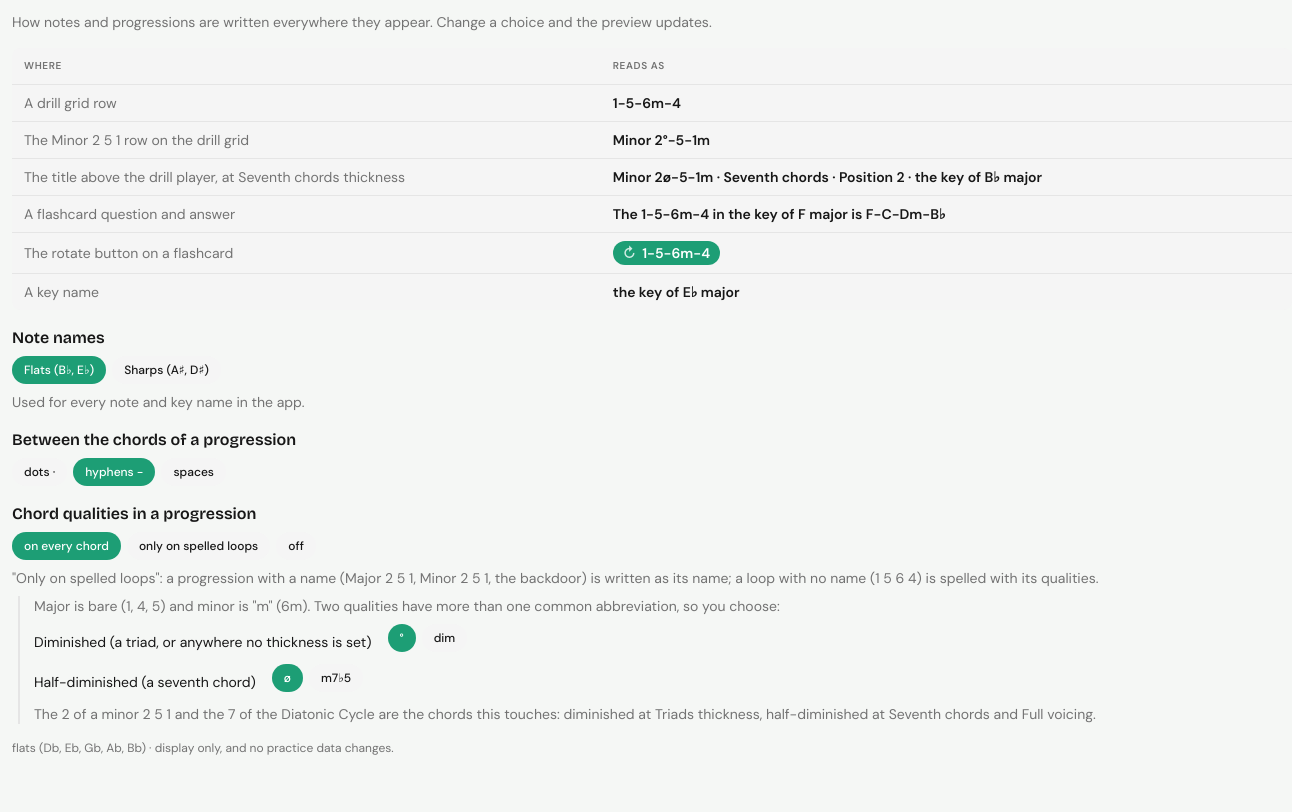
Test case: every control moves the preview › follows the separator
The image size is (1292, 812).
Step 1. Click the button "dots ·" → (40, 472), box [12,458,67,486]
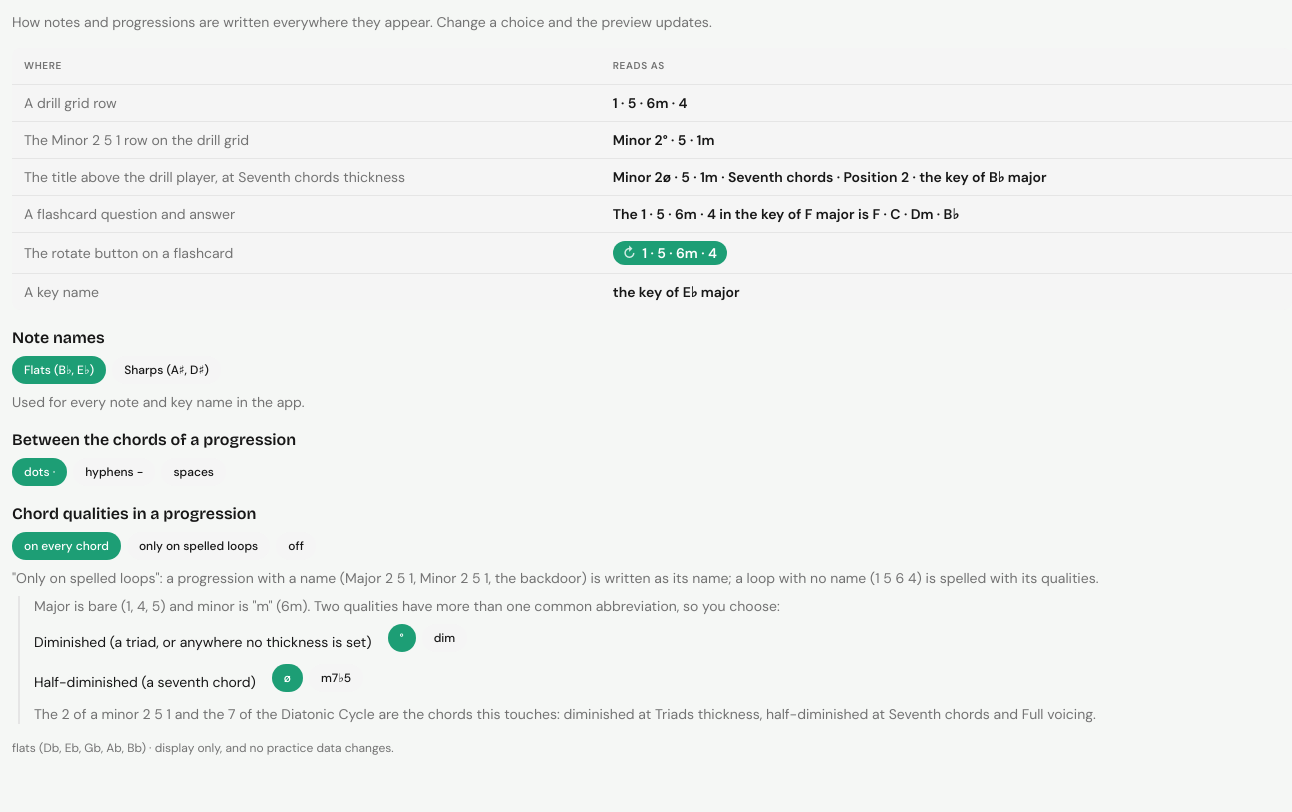
Now the cell with test id "spelling-preview-cell" reads "1 · 5 · 6m · 4", box [613,94,688,112]
Step 2. Click the button "spaces" → (194, 472), box [162,458,226,486]
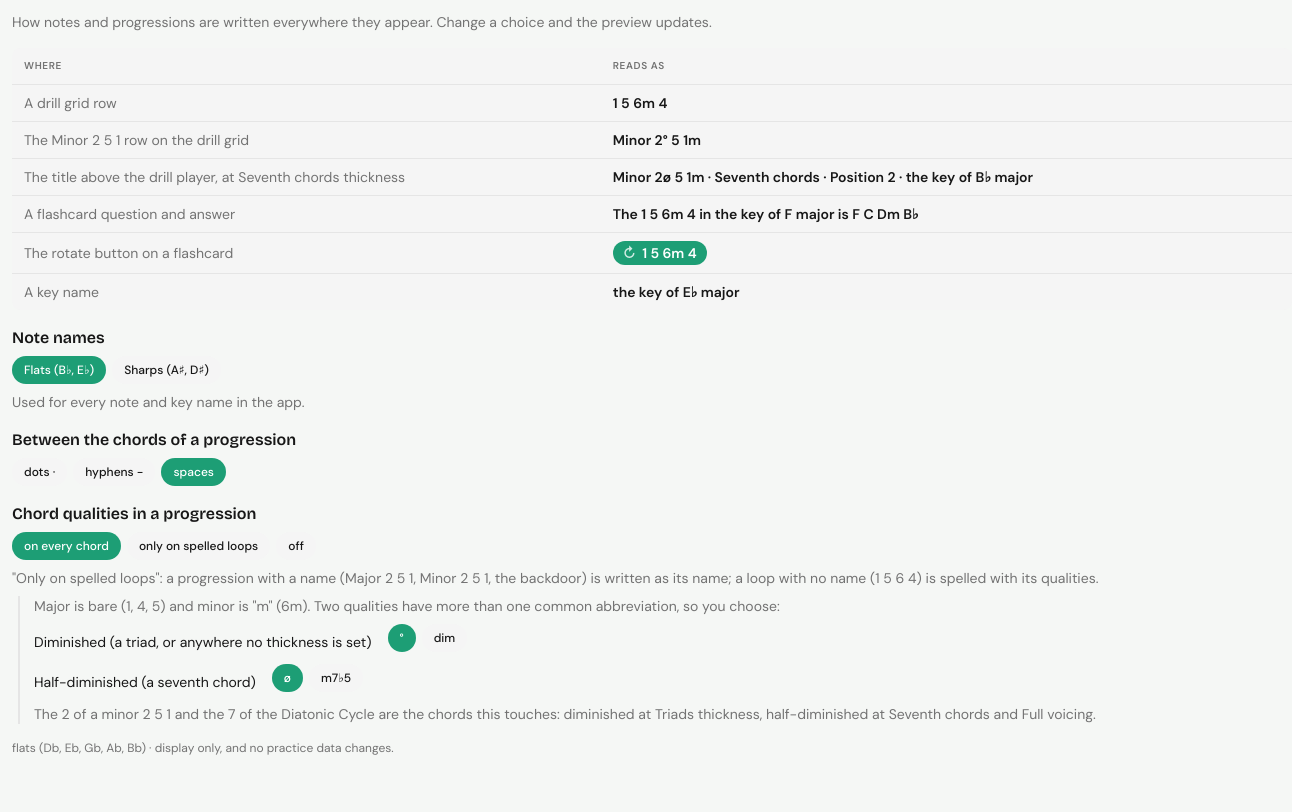
Now the cell with test id "spelling-preview-cell" reads "1 5 6m 4", box [613,94,667,112]
